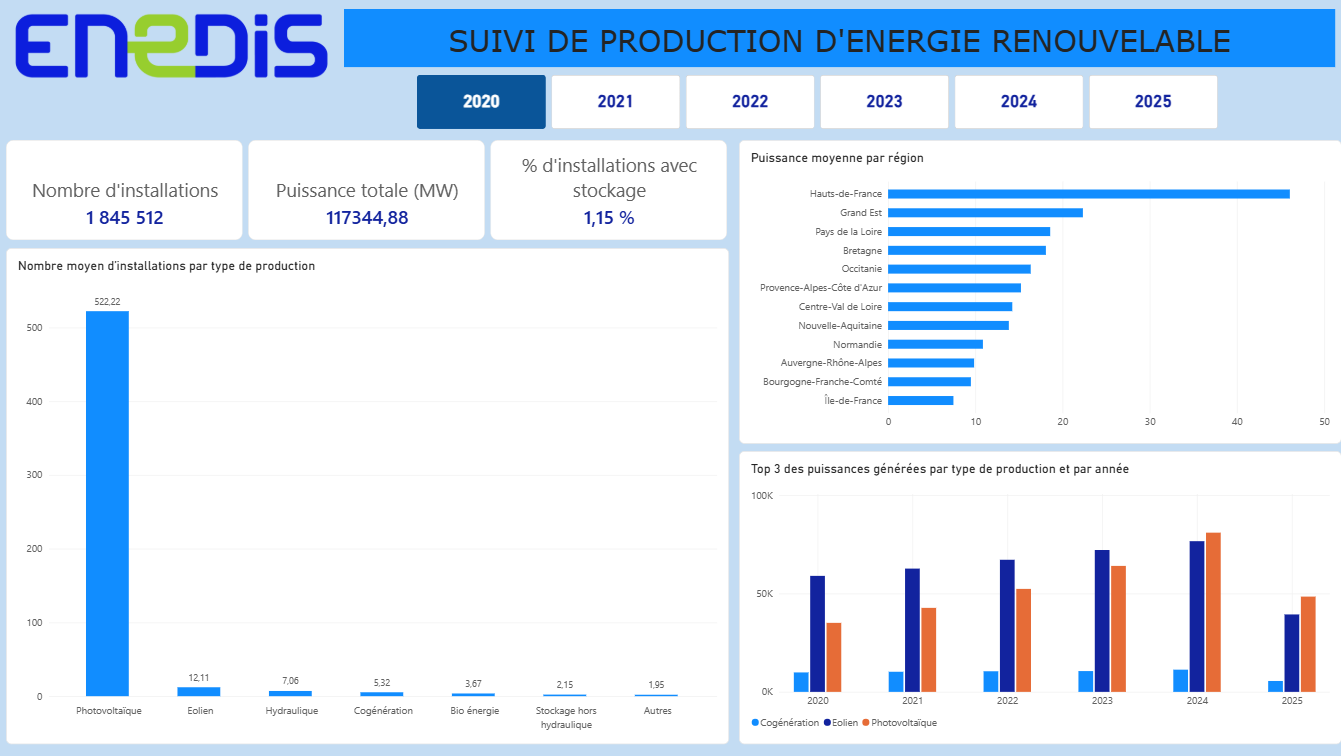

The page's visual inventory and layout, read from the dashboard file:
{"tool":"powerbi","page":{"name":"Suivi de production d'énergie renouvelable","canvas":[1920,1080],"ordinal":0},"visuals":[{"type":"cardVisual","fields":{"Data":["Sum(Production énergie renouvelable.NOMBRE INSTALLATIONS)","Sum(Production énergie renouvelable.PUISSANCE MW)","Table des mesures.% des installations avec stockage"]},"box":[12.1,200.1,1033,143.7],"z":0},{"type":"columnChart","title":"Nombre moyen d’installations par type de production","fields":{"Category":["Type énergie renouvelable.Type Production"],"Y":["Avg(Production énergie renouvelable.NOMBRE INSTALLATIONS)"]},"box":[12.1,354.6,1033,709.3],"z":1000},{"type":"barChart","title":"Puissance moyenne par région","fields":{"Category":["Production énergie renouvelable.REGION"],"Y":["Avg(Production énergie renouvelable.PUISSANCE MW)"]},"box":[1058.5,200.1,861,433.9],"z":2000},{"type":"clusteredColumnChart","title":"Top 3 des puissances générées par type de production et par année","fields":{"Category":["Calendrier.Date.Variation.Hiérarchie de dates.Année"],"Series":["Production énergie renouvelable.TYPE PRODUCTION"],"Y":["Sum(Production énergie renouvelable.PUISSANCE MW)"]},"box":[1058.5,644.8,861,419.1],"z":3000},{"type":"advancedSlicerVisual","fields":{"Values":["Calendrier.Date.Variation.Hiérarchie de dates.Année"]},"box":[599.1,107.5,1148,77.4],"z":4000},{"type":"textbox","box":[494.3,13.4,1415.8,83.3],"z":4002},{"type":"image","box":[22.6,13.3,449.6,106.4],"z":4003}]}

Visuals, with their boxes in screenshot pixels (x1, y1, x2, y2), scaled from the page's 1920x1080 canvas onto the 1341x756 screenshot:
cardVisual - Sum(Production énergie renouvelable.NOMBRE INSTALLATIONS) x Sum(Production énergie renouvelable.PUISSANCE MW): bbox=(8, 140, 730, 241)
"Nombre moyen d’installations par type de production" columnChart: bbox=(8, 248, 730, 745)
"Puissance moyenne par région" barChart: bbox=(739, 140, 1340, 444)
"Top 3 des puissances générées par type de production et par année" clusteredColumnChart: bbox=(739, 451, 1340, 745)
advancedSlicerVisual - Calendrier.Date.Variation.Hiérarchie de dates.Année: bbox=(418, 75, 1220, 129)
textbox: bbox=(345, 9, 1334, 68)
image: bbox=(16, 9, 330, 84)
